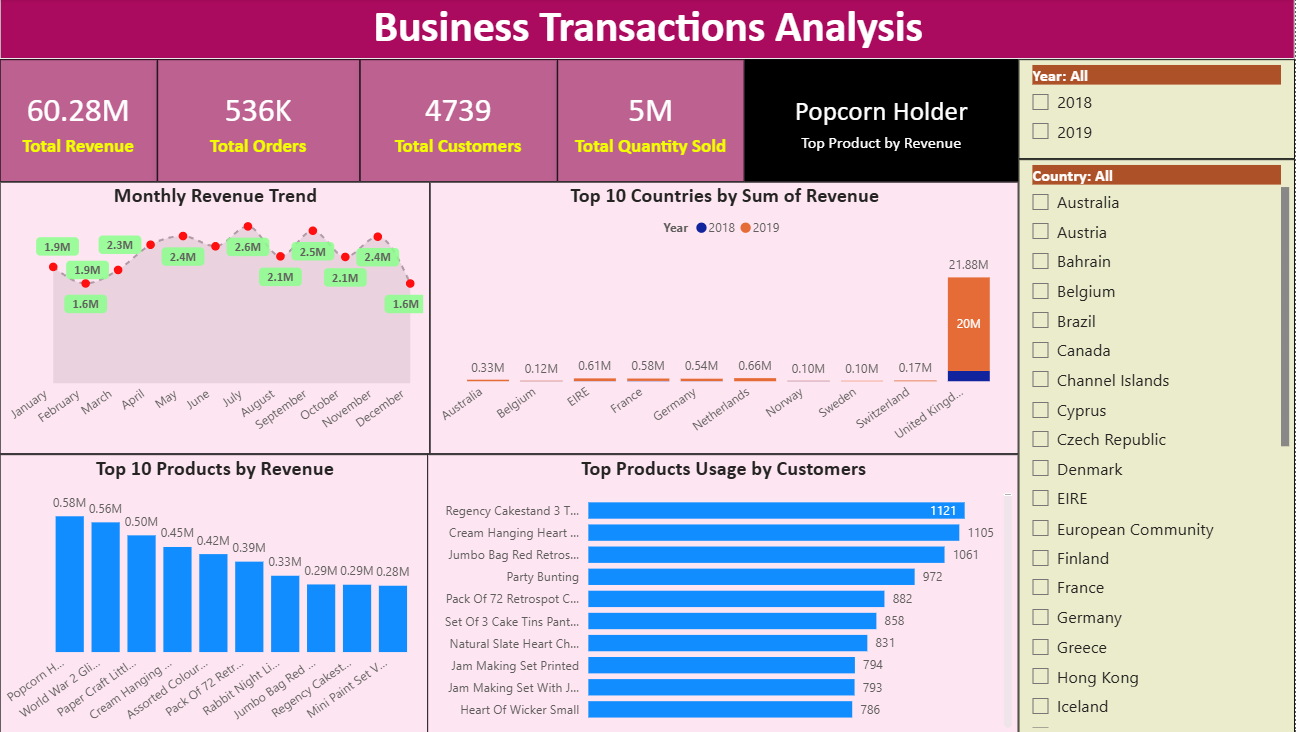

What the dashboard file says about the page in this screenshot:
{"tool":"powerbi","page":{"name":"Page 1","canvas":[1280,720],"ordinal":0},"visuals":[{"type":"card","fields":{"Values":["Sales Transactions Data.SUM of Total Revenue"]},"box":[13.5,59.9,154.1,119.8],"z":0},{"type":"card","fields":{"Values":["Sales Transactions Data.Total Orders"]},"box":[167.5,59.9,198.1,119.8],"z":1000},{"type":"card","fields":{"Values":["Sales Transactions Data.Total Customers"]},"box":[365.6,59.9,193.2,119.8],"z":2000},{"type":"card","fields":{"Values":["Sales Transactions Data.Total Quantity Sold"]},"box":[558.8,59.9,183.4,119.8],"z":3000},{"type":"textbox","title":"Business Transactions Analysis","box":[13.5,0,1266.9,59.9],"z":4000},{"type":"areaChart","title":"Monthly Revenue Trend","fields":{"Category":["Sales Transactions Data.Date.Variation.Date Hierarchy.Month"],"Y":["Sum(Sales Transactions Data.Revenue)"]},"box":[13.5,179.8,420.7,266.6],"z":5000},{"type":"clusteredColumnChart","title":"Top 10 Products by Revenue","fields":{"Y":["Sum(Sales Transactions Data.Revenue)"],"Category":["Sales Transactions Data.ProductName"]},"box":[13.5,446.3,419.4,273.9],"z":6000},{"type":"card","fields":{"Values":["Min(Sales Transactions Data.ProductName)"]},"box":[742.3,59.9,267.8,119.8],"z":7000},{"type":"clusteredBarChart","title":"Top Products Usage by Customers","fields":{"Category":["Sales Transactions Data.ProductName"],"Y":["Sales Transactions Data.Total Customers"]},"box":[431.7,446.3,578.4,273.9],"z":8000},{"type":"slicer","fields":{"Values":["Sales Transactions Data.Date.Variation.Date Hierarchy.Year"]},"box":[1010.1,59.9,270.2,97.8],"z":9000},{"type":"slicer","fields":{"Values":["Sales Transactions Data.Country"]},"box":[1010.1,157.7,270.2,562.5],"z":10000},{"type":"columnChart","title":"Top 10 Countries by Sum of Revenue","fields":{"Category":["Sales Transactions Data.Country"],"Y":["Sum(Sales Transactions Data.Revenue)"],"Series":["Sales Transactions Data.Date.Variation.Date Hierarchy.Year"]},"box":[434.1,179.8,576,266.6],"z":11000}]}

Visuals, with their boxes in screenshot pixels (x1, y1, x2, y2), scaled from the page's 1280x720 canvas onto the 1296x732 screenshot:
card - Sales Transactions Data.SUM of Total Revenue: l=14, t=61, r=170, b=183
card - Sales Transactions Data.Total Orders: l=170, t=61, r=370, b=183
card - Sales Transactions Data.Total Customers: l=370, t=61, r=566, b=183
card - Sales Transactions Data.Total Quantity Sold: l=566, t=61, r=751, b=183
"Business Transactions Analysis" textbox: l=14, t=0, r=1295, b=61
"Monthly Revenue Trend" areaChart: l=14, t=183, r=440, b=454
"Top 10 Products by Revenue" clusteredColumnChart: l=14, t=454, r=438, b=731
card - Min(Sales Transactions Data.ProductName): l=752, t=61, r=1023, b=183
"Top Products Usage by Customers" clusteredBarChart: l=437, t=454, r=1023, b=731
slicer - Sales Transactions Data.Date.Variation.Date Hierarchy.Year: l=1023, t=61, r=1295, b=160
slicer - Sales Transactions Data.Country: l=1023, t=160, r=1295, b=731
"Top 10 Countries by Sum of Revenue" columnChart: l=440, t=183, r=1023, b=454
